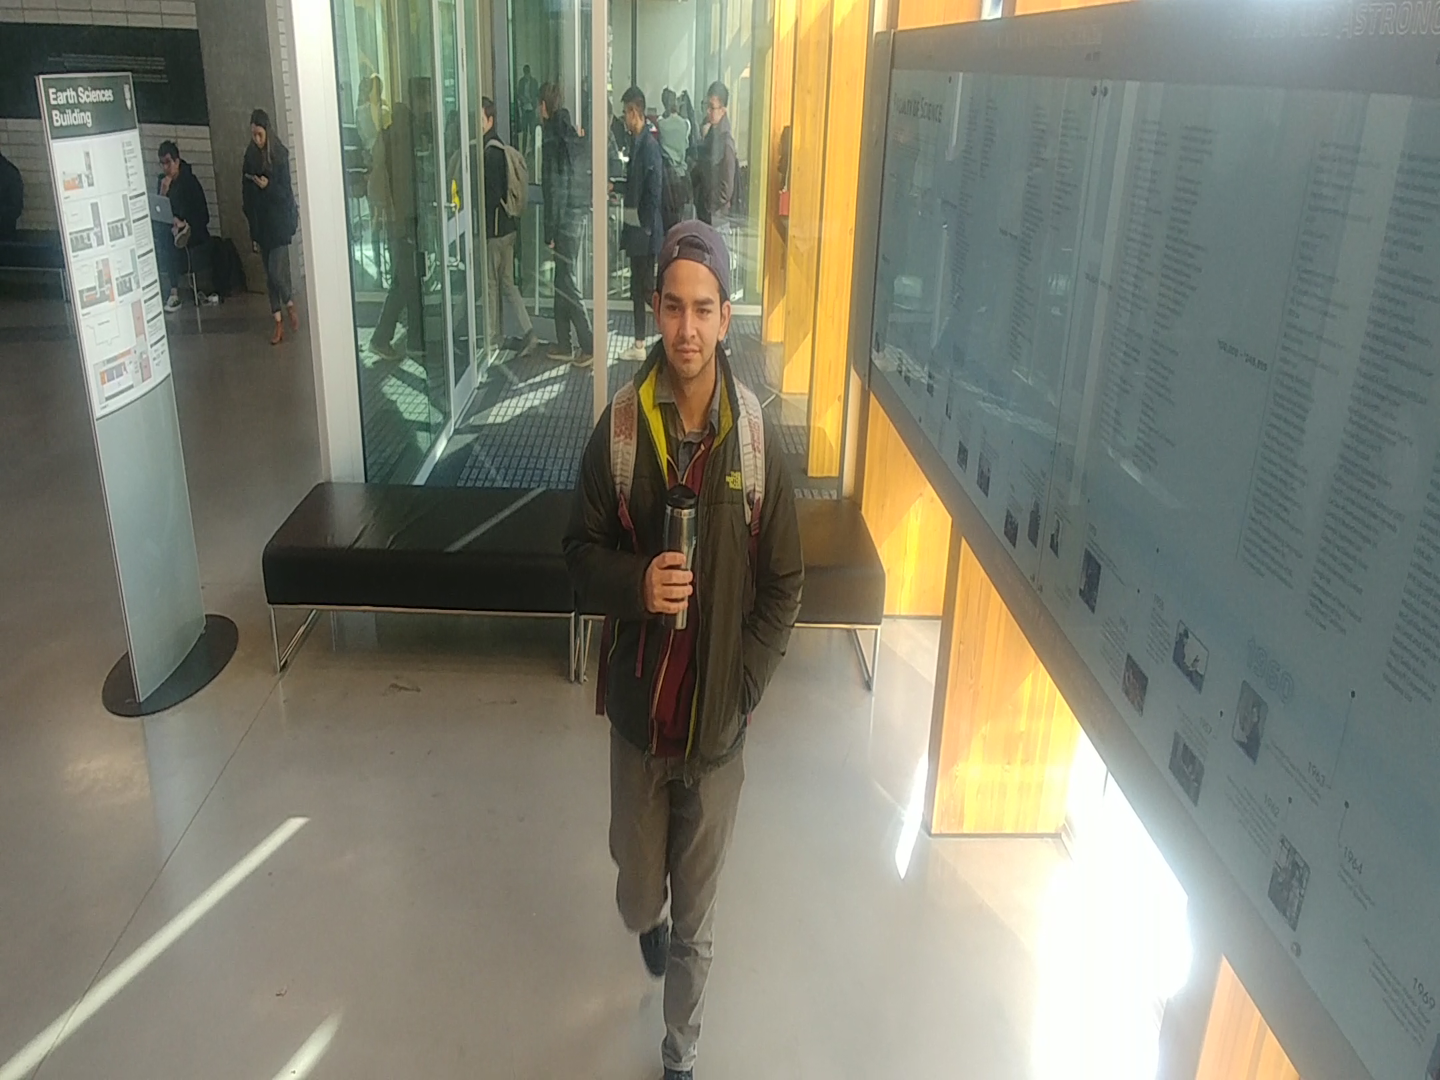face: (640, 211, 750, 386), (526, 77, 574, 132), (240, 100, 280, 162), (616, 77, 654, 136), (697, 74, 736, 131), (148, 134, 190, 185)
human: (559, 208, 818, 1079), (527, 74, 593, 370), (234, 99, 307, 356), (478, 96, 547, 364), (612, 78, 672, 365), (146, 131, 227, 322), (686, 75, 750, 231)
